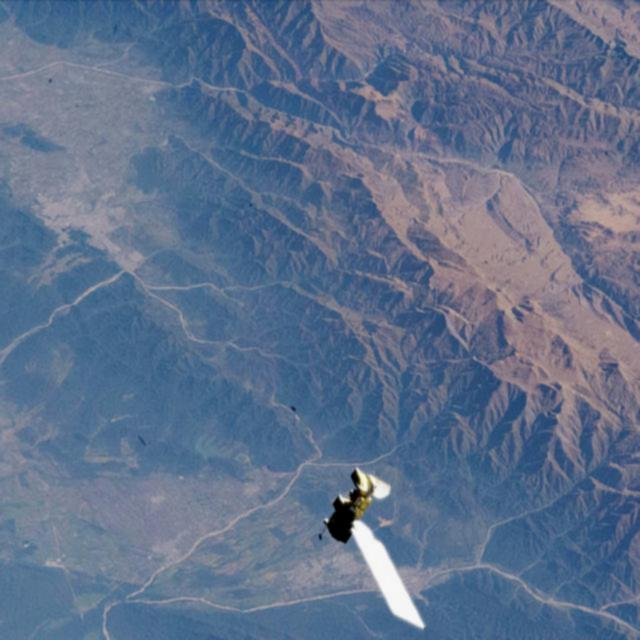satellite: (321, 452, 437, 628)
